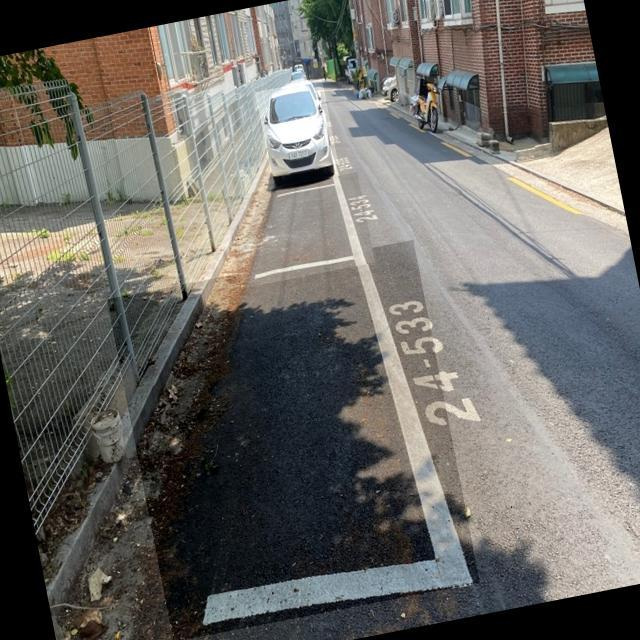empty: (173, 250, 480, 638), (243, 175, 375, 288)
occupied: (255, 80, 338, 177)
